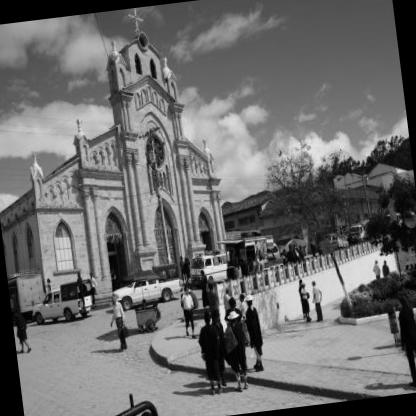truck: (24, 275, 102, 332), (116, 260, 179, 305)
